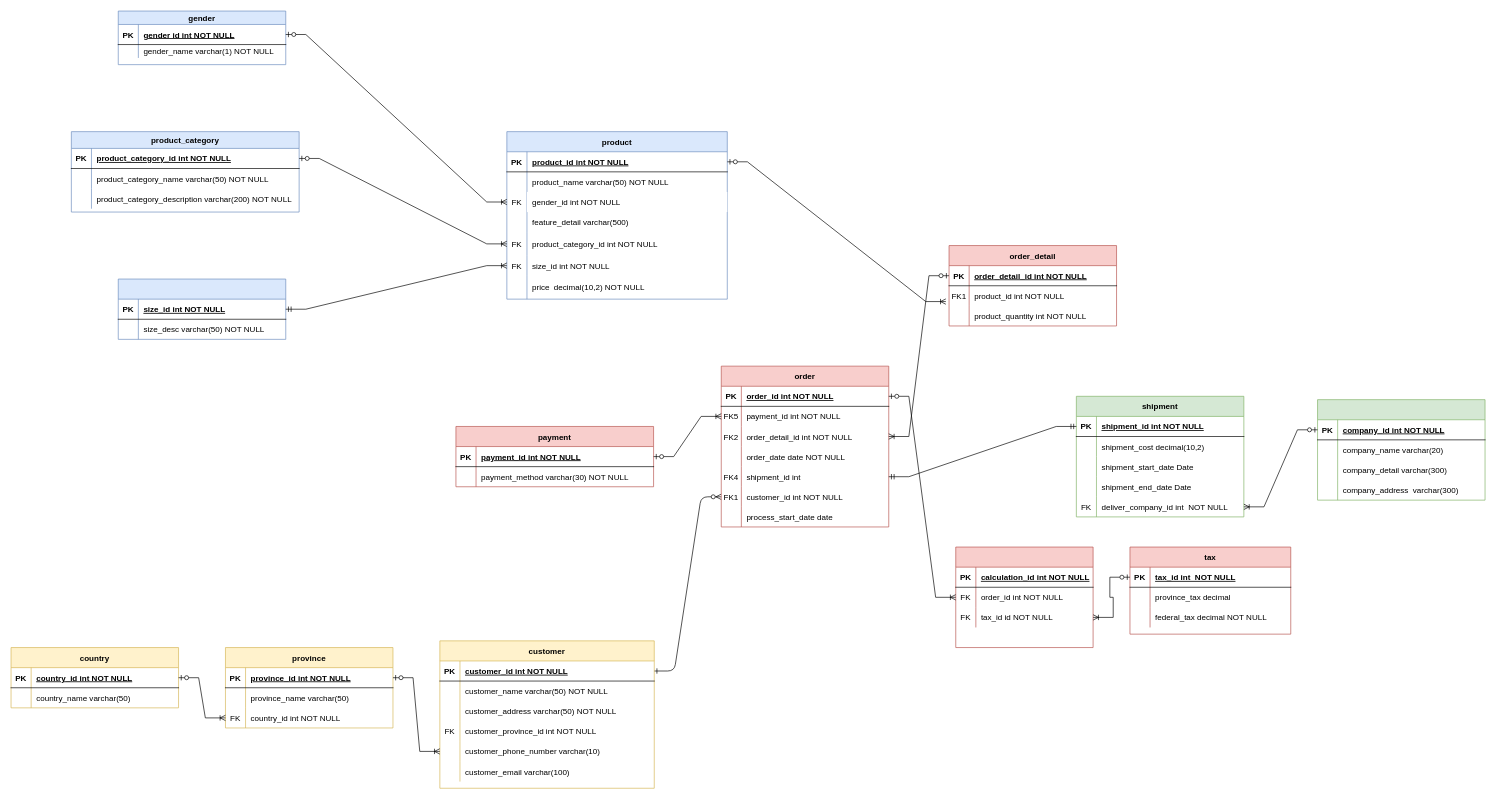
Image size: 1496x799. Some labels were removed from this diagram. The box of each missing label's shape, as (x1, y1, x2, y2) in pixels:
devlivery_company: (1317, 399, 1485, 500)
size_chart: (118, 278, 286, 339)
total_calculator: (955, 546, 1093, 648)
